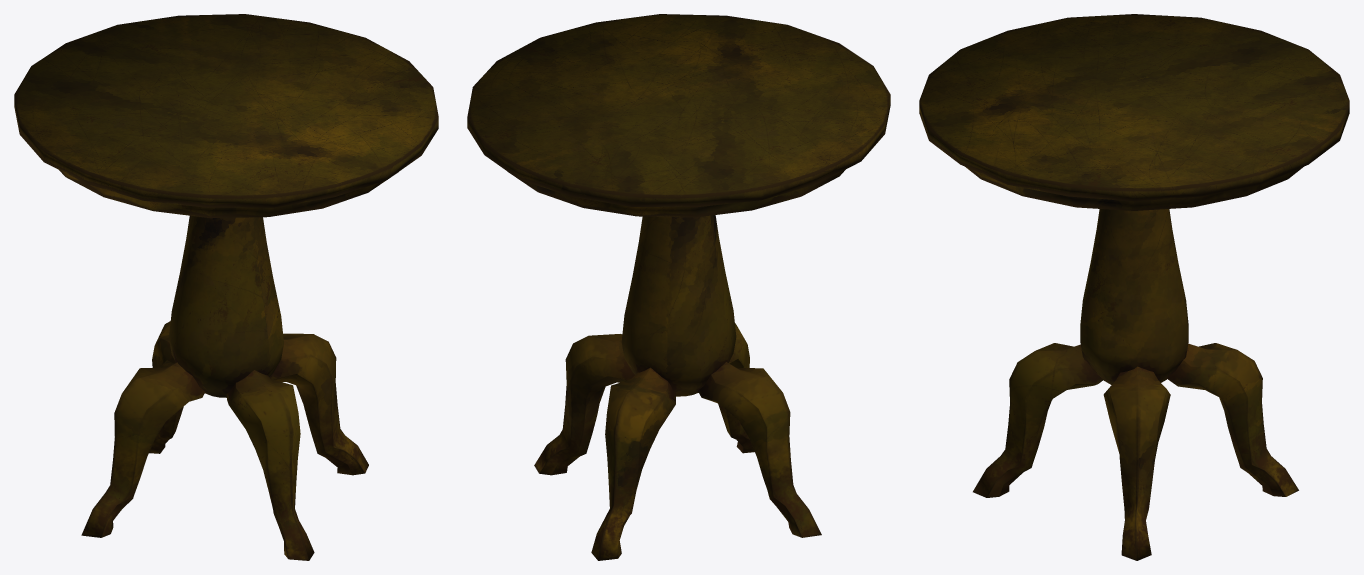
The model's file is mesitac.glb.
3 renders of one model, left to right at view 1: azimuth 30°, elevation 25°; view 2: azimuth 150°, elevation 25°; view 3: azimuth 270°, elevation 25°, orthographic.
Visible parts, largest first — view 1: MesaCircular_Low; view 2: MesaCircular_Low; view 3: MesaCircular_Low.
Boxes of the visible parts, <box> form: MesaCircular_Low: <box>14,14,438,560</box>; MesaCircular_Low: <box>467,14,890,560</box>; MesaCircular_Low: <box>919,14,1349,560</box>.
Bounding box in the file's own units: 72.91 × 75.54 × 75.41.
Materials: 1 (1 with a texture image).
